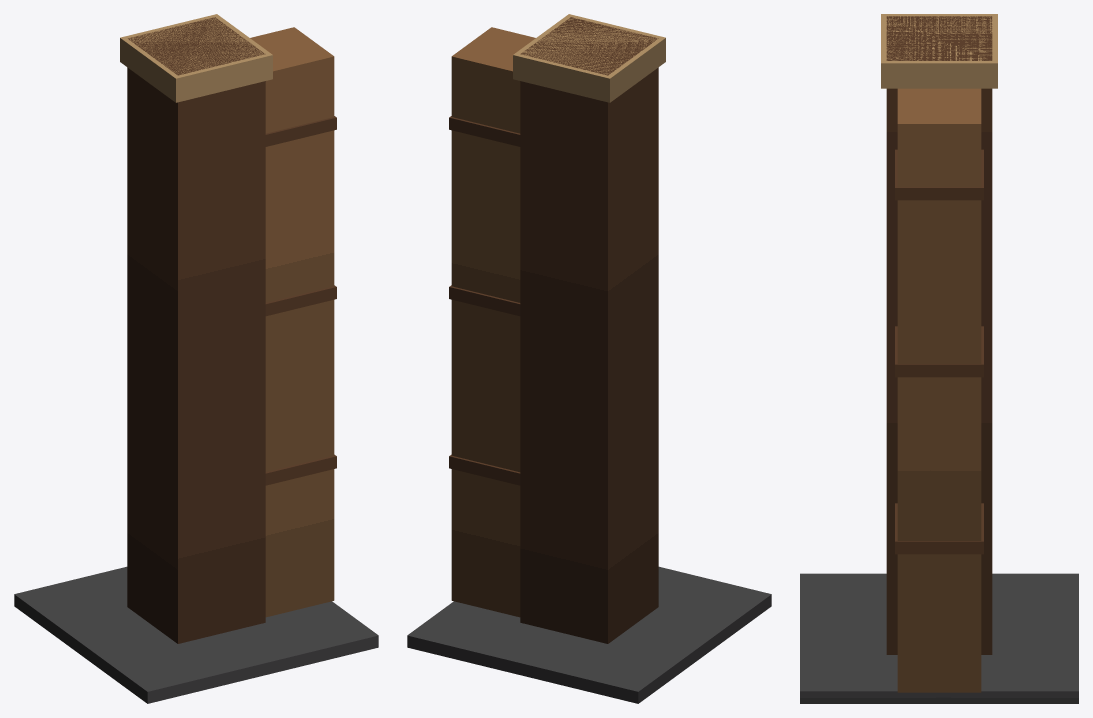
File: model_45_end.glb
3 views of the same model, side by side, from view 1: azimuth 30°, elevation 25°; view 2: azimuth 150°, elevation 25°; view 3: azimuth 270°, elevation 25° (orthographic). The views are drawn at different scales.
Bounding box in the file's own units: 1.01 × 2.4 × 1.
1 material, 1 textured.
